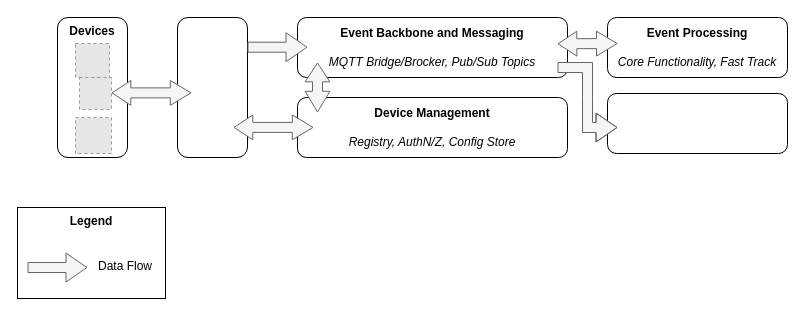
Image size: 805x316. Some labels were removed from this diagram. Grey dashed boxes stand in for pictures. Here are the shapes that lost their labels. From the top down, the centre of each, then its label:
At point 212,87: "Gateway and LB".
At point 697,123: "Data Ingestion and Analytics Enrichment, Cleansing, Aggregation".
